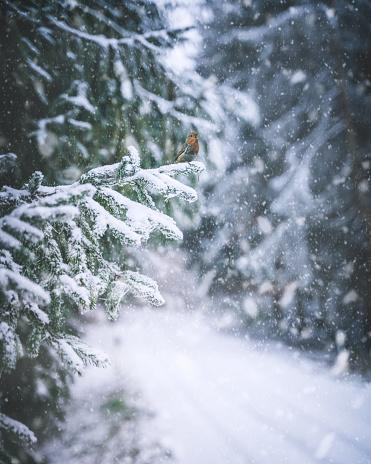bird: (175, 133, 198, 162)
